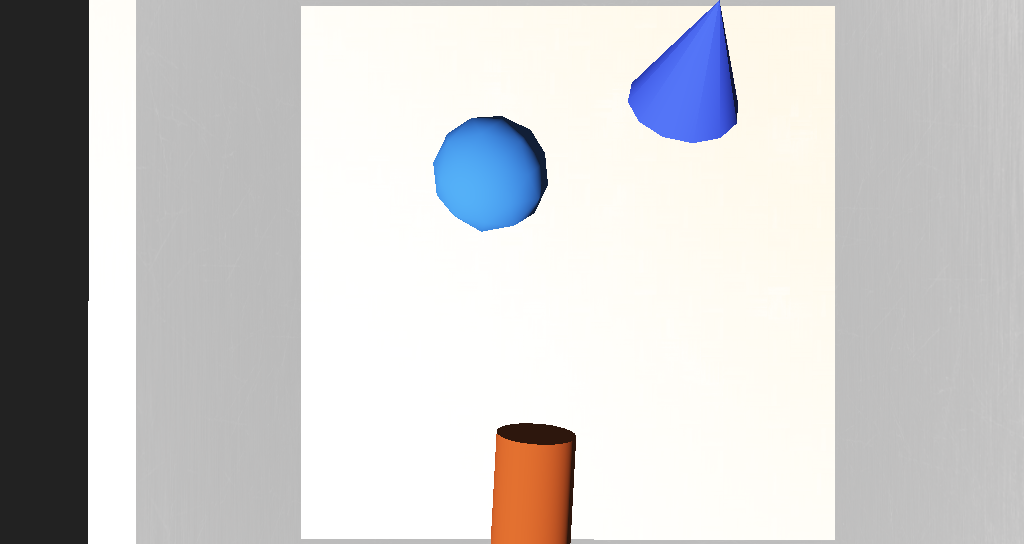cone: (461, 329, 509, 377)
cylinder: (542, 150, 616, 222)
sphere: (435, 205, 495, 253)
